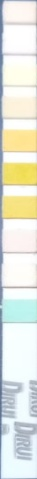color 1: (5, 4, 35, 23)
color 10: (3, 301, 35, 321)
color 2: (4, 34, 35, 52)
color 3: (3, 66, 35, 83)
color 4: (3, 98, 35, 115)
color 5: (3, 130, 35, 149)
color 6: (4, 165, 34, 183)
color 7: (4, 198, 35, 216)
color 8: (4, 231, 35, 250)
color 9: (3, 266, 35, 285)
